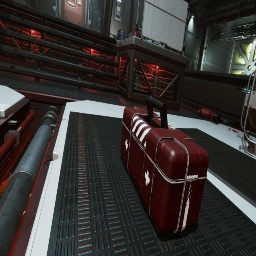FireExtinguisher ]: (197, 107, 220, 124)
FirstAidBox ,: (121, 96, 209, 234)
NitrogenTank ,: (131, 26, 143, 39)
SafetySwitchPanel ,: (114, 0, 123, 22)
